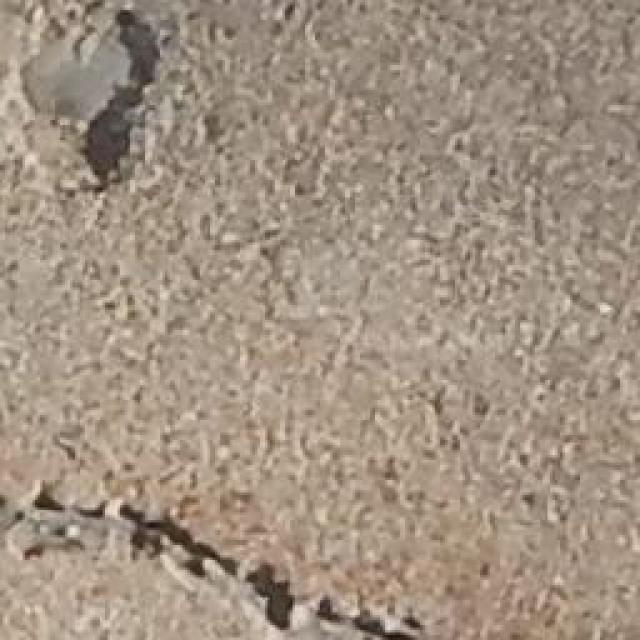concrete-crack: (6, 487, 424, 640)
